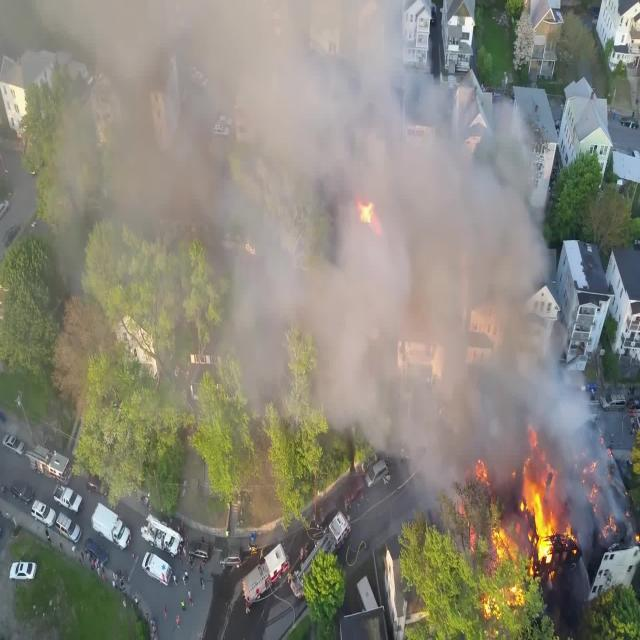smoke: (143, 13, 409, 276), (364, 284, 554, 462)
